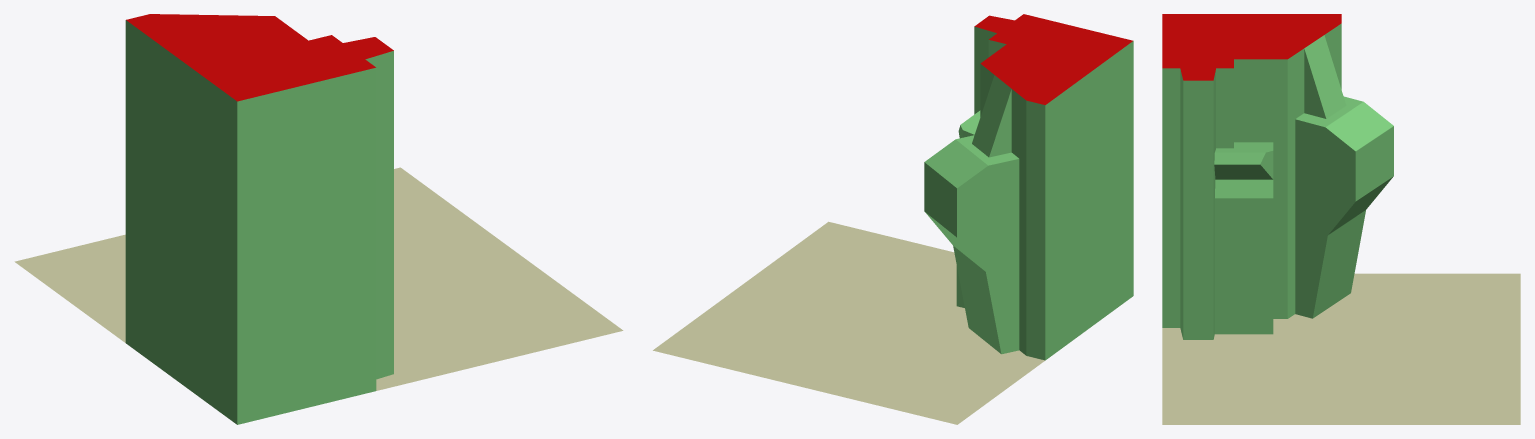
Rendered from x_oo_ground_24_wall_corner1_rmstrd.fbx.
The picture shows the model from 3 angles, left to right: view 1: azimuth 30°, elevation 25°; view 2: azimuth 150°, elevation 25°; view 3: azimuth 270°, elevation 25°; orthographic projection. The views are drawn at different scales.
Parts seen in each view (by area): view 1: x_oo_ground_24_wall_corner1_rmstrd1; view 2: x_oo_ground_24_wall_corner1_rmstrd1; view 3: x_oo_ground_24_wall_corner1_rmstrd1.
Boxes of the visible parts, bbox=[...] form: x_oo_ground_24_wall_corner1_rmstrd1: bbox=[14, 14, 623, 424]; x_oo_ground_24_wall_corner1_rmstrd1: bbox=[653, 14, 1133, 424]; x_oo_ground_24_wall_corner1_rmstrd1: bbox=[1162, 14, 1520, 424].
Bounding box in the file's own units: 5 × 4 × 5.
